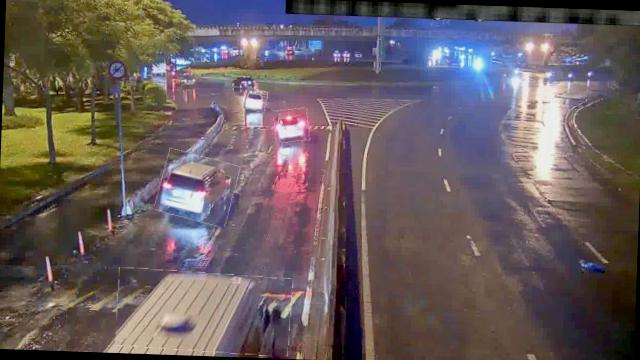Bus: (115, 268, 292, 356)
Car: (157, 151, 238, 224), (274, 108, 310, 142), (243, 88, 267, 110)
